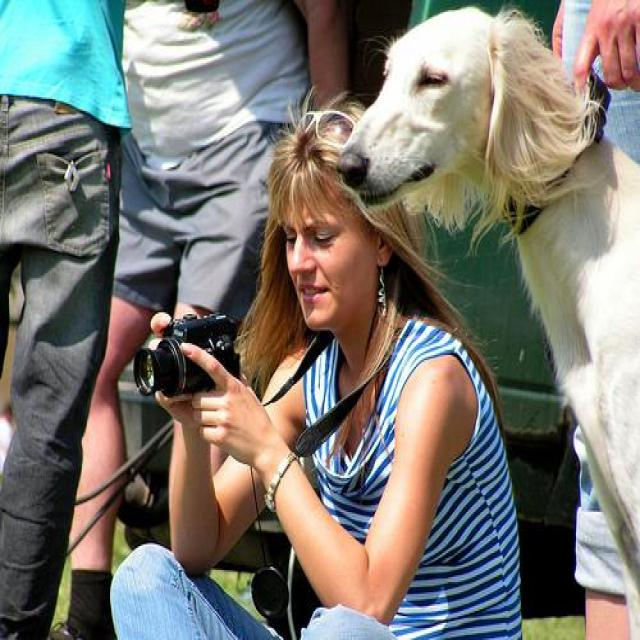saluki: (335, 4, 639, 638)
